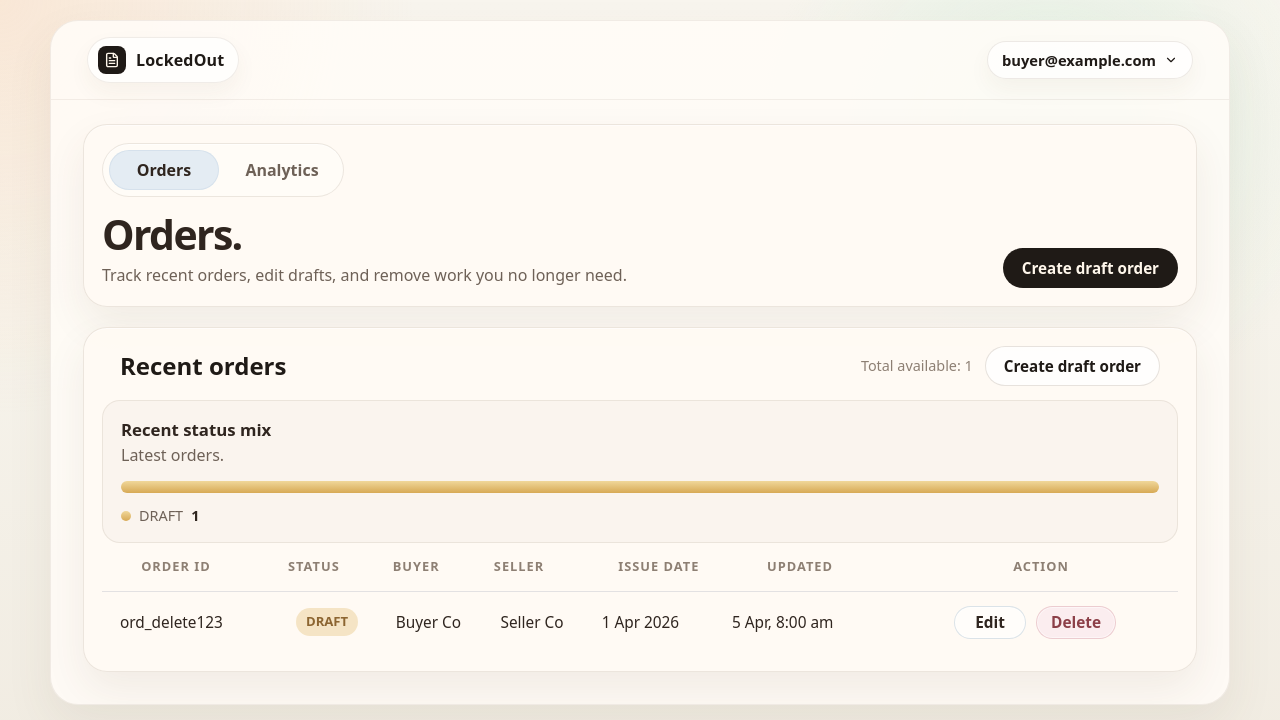
Test: Orders pages › closes the delete dialog on escape
The image size is (1280, 720).
Expected: the text "ord_delete123" is shown, [102, 591, 296, 653]
Click the button "Delete".
click(1076, 622)  # box [1036, 606, 1116, 639]
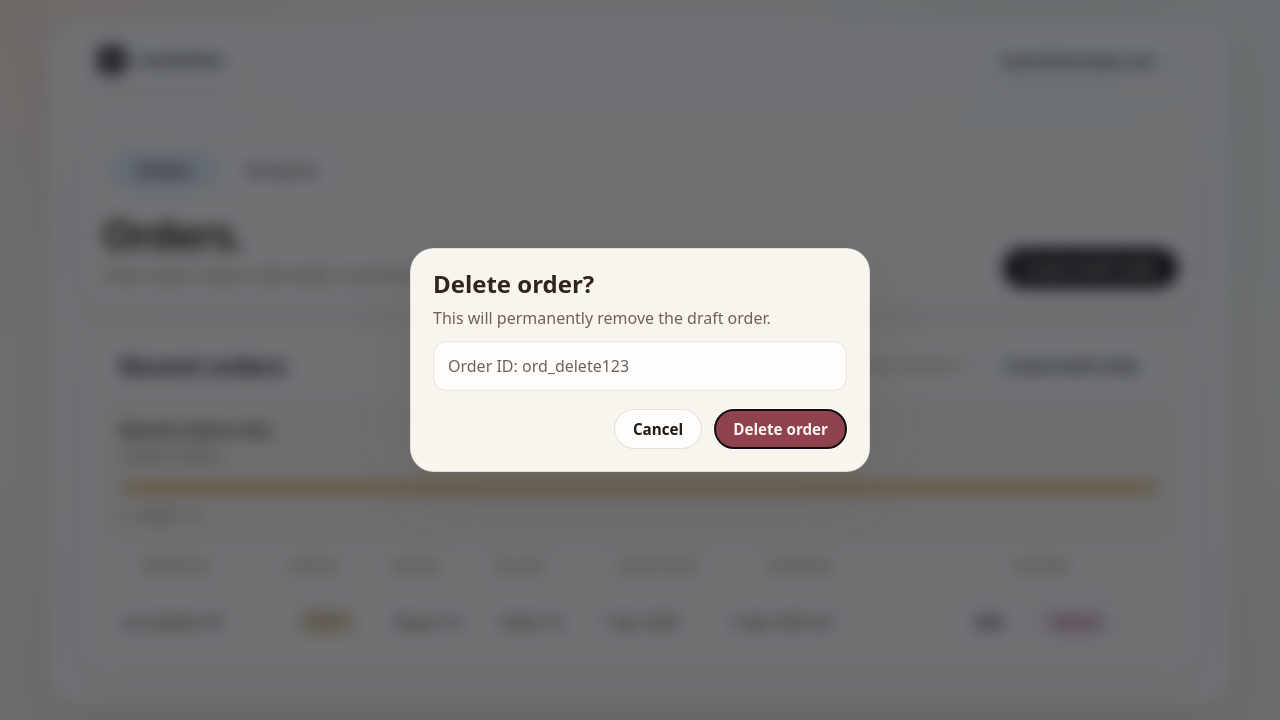
Expected: the dialog is shown, [410, 248, 870, 472]
Press Escape
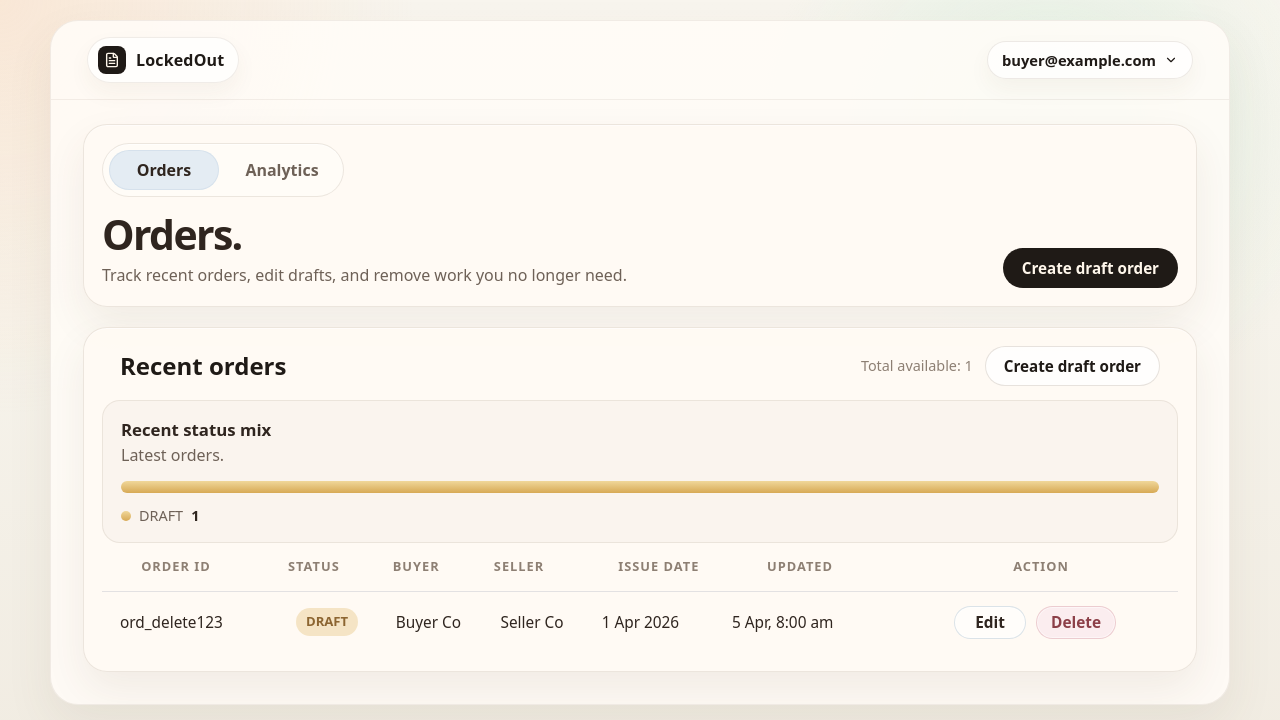
Expected: the dialog is gone
